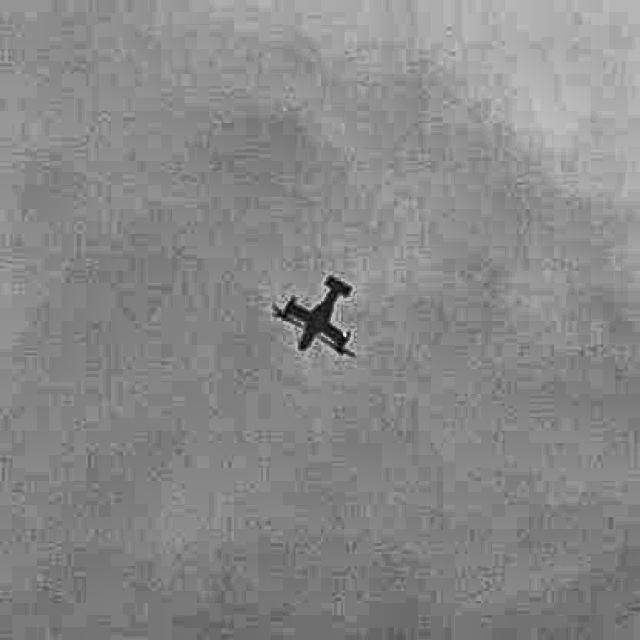V22: (270, 275, 356, 359)
